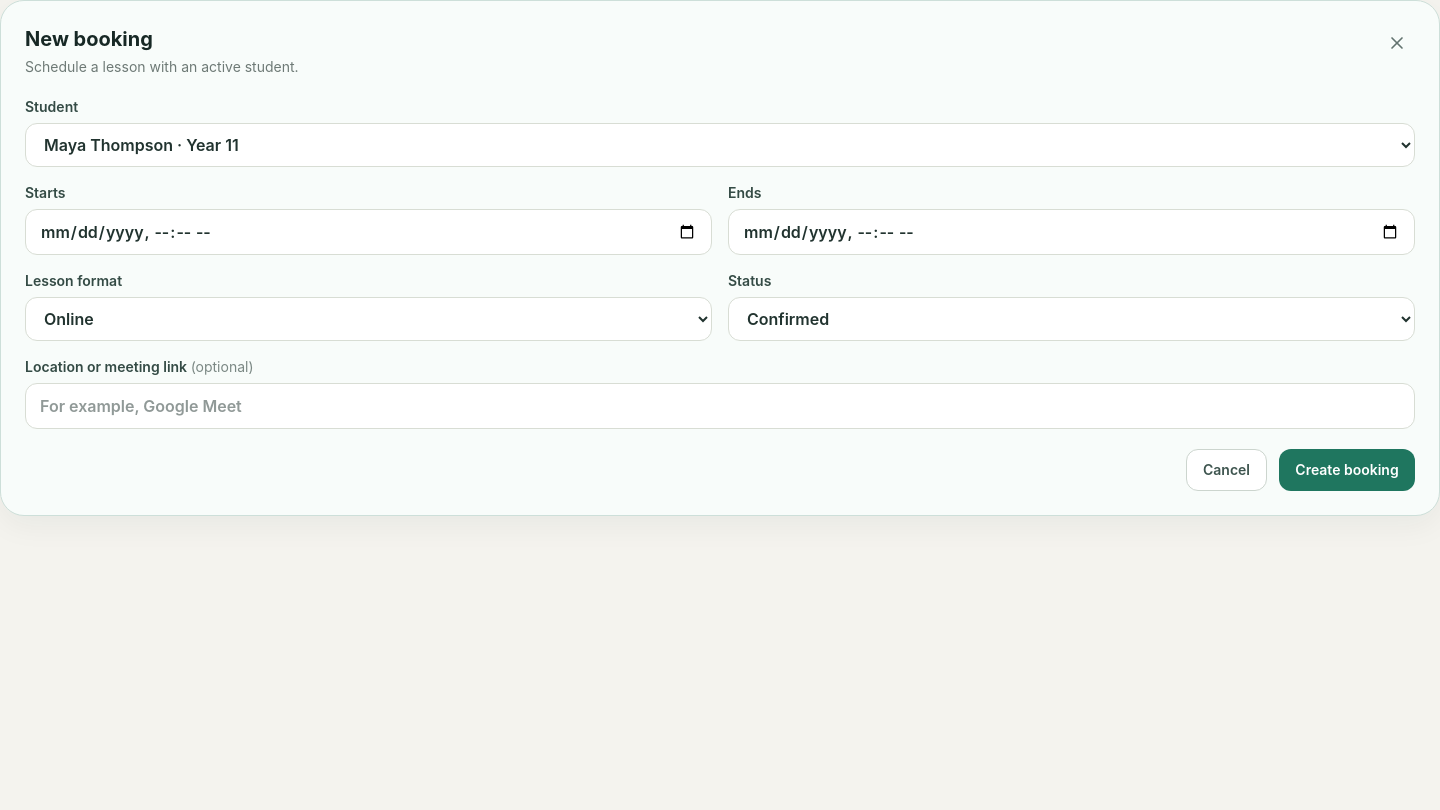
Scenario: shows an error when booking creation fails
Type "2026-09-12T16:00" into the field labelled "Starts" at [368, 232], box [25, 209, 712, 255]
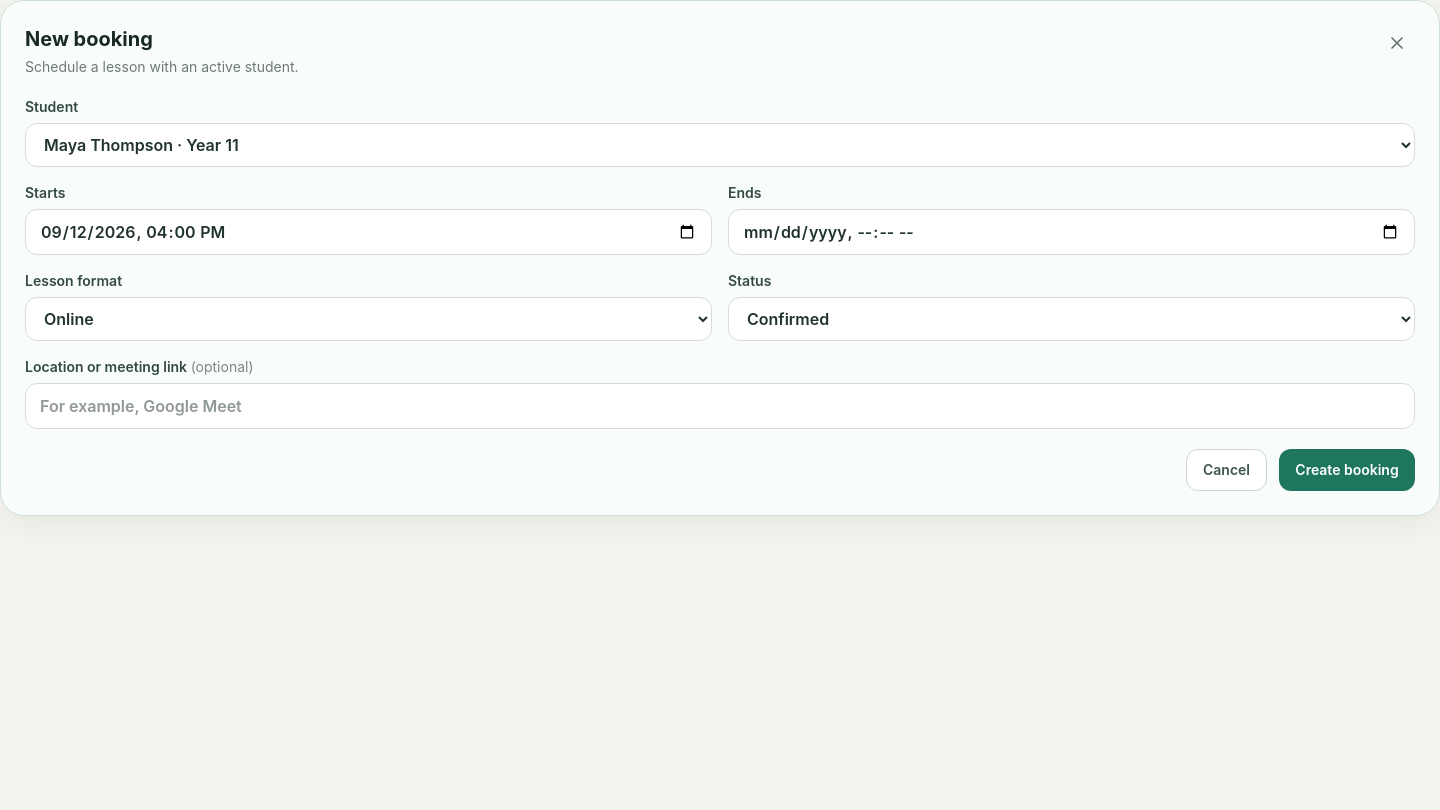
Type "2026-09-12T17:00" into the field labelled "Ends" at [1072, 232], box [728, 209, 1415, 255]
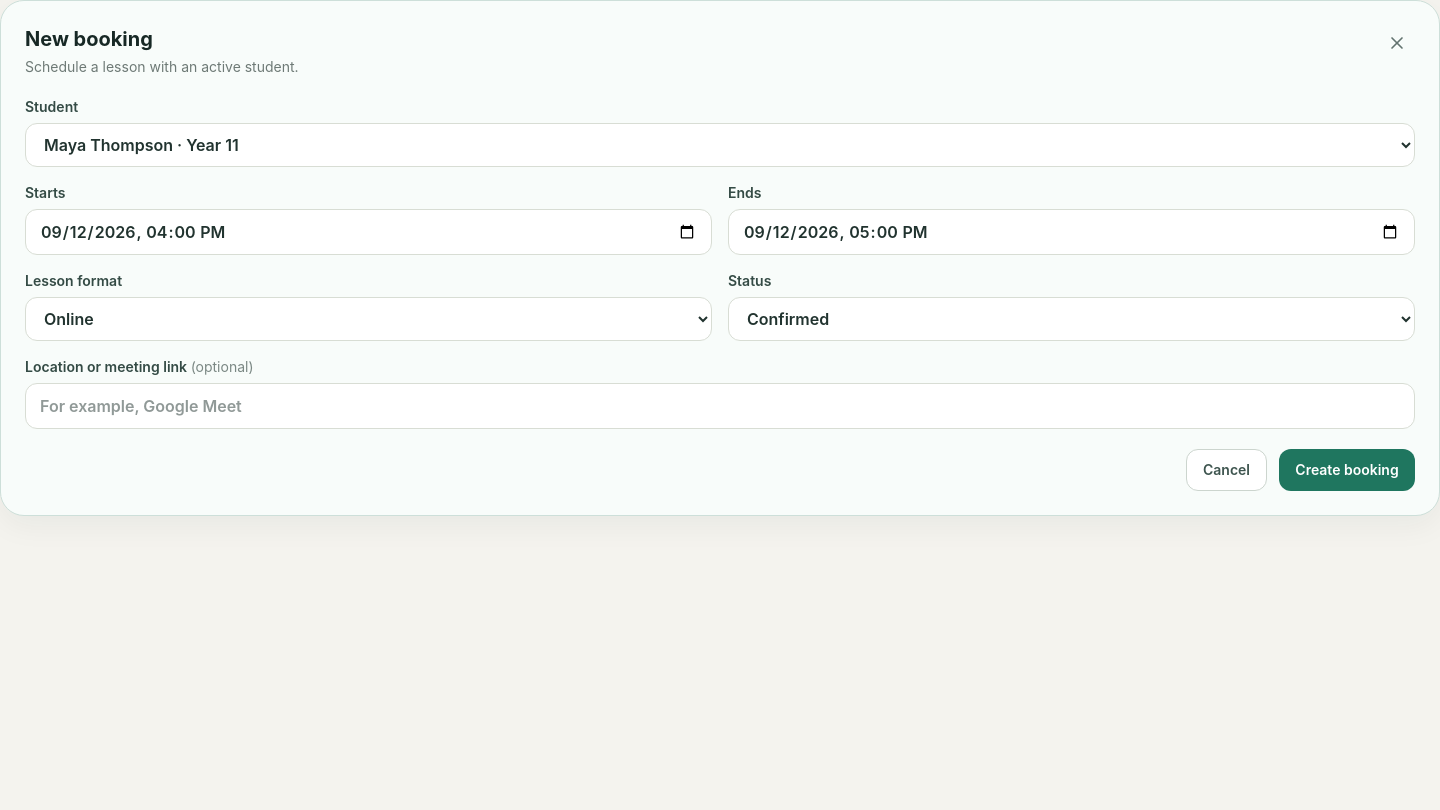
Click the button "Create booking" at [1347, 470], box [1279, 449, 1415, 491]
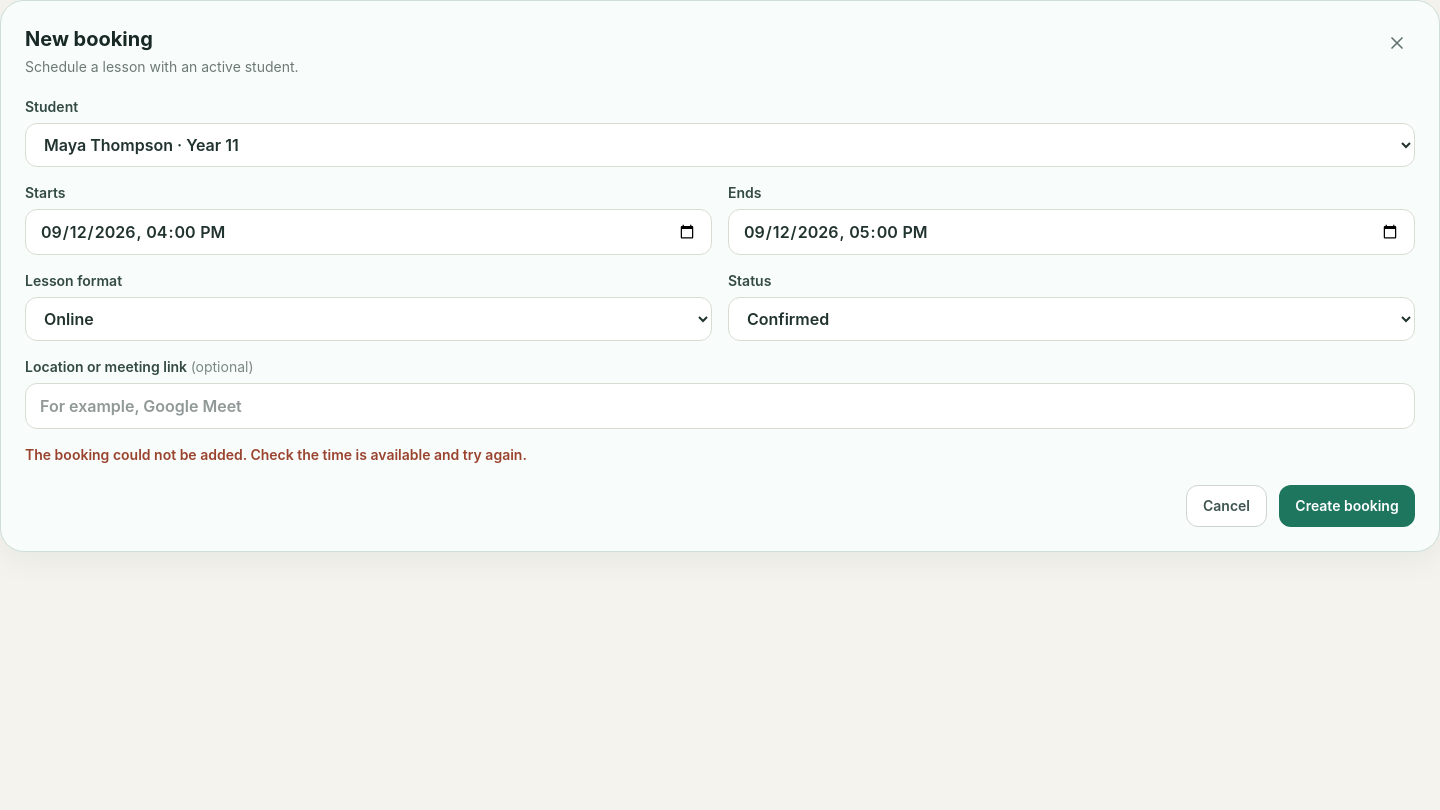
Check: the button "Create booking" is enabled, box [1279, 485, 1415, 527]
Check: the message shows "could not be added", box [25, 446, 527, 463]
